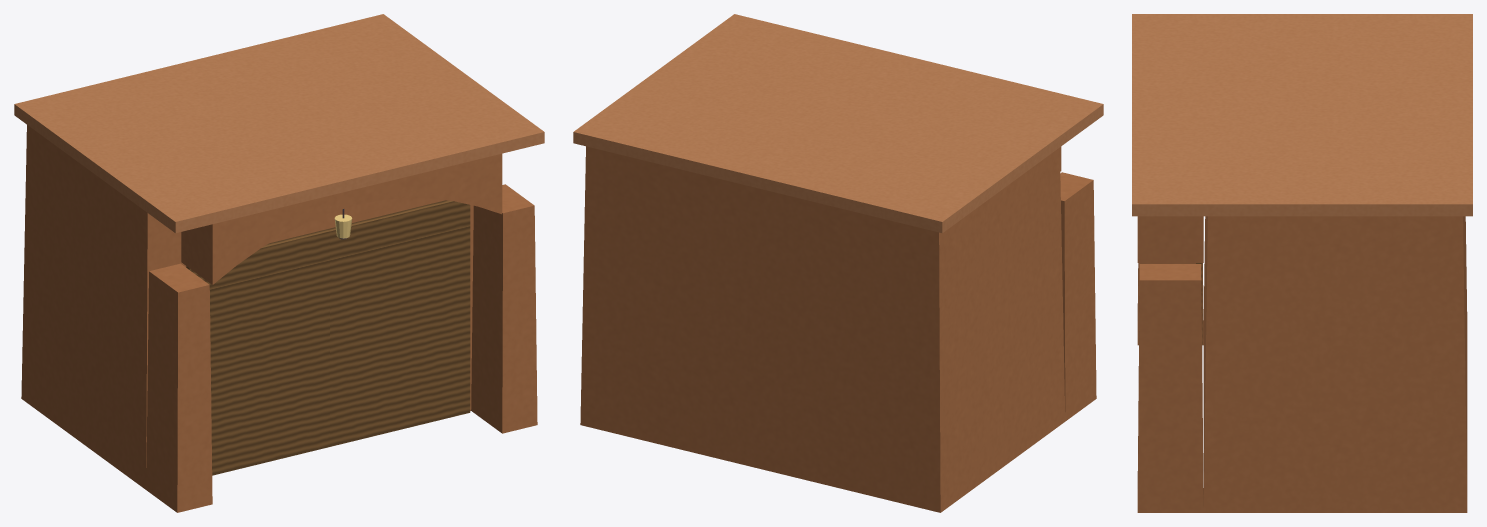
The model's file is SM_Souq_Stall_W4D30H30.fbx.
3 views of the same model, side by side, from view 1: azimuth 30°, elevation 25°; view 2: azimuth 150°, elevation 25°; view 3: azimuth 270°, elevation 25° (orthographic). The views are drawn at different scales.
Visible parts, largest first — view 1: SM_Souq_Stall_W4D30H30; view 2: SM_Souq_Stall_W4D30H30; view 3: SM_Souq_Stall_W4D30H30.
Part boxes in pixels (x1,y1,x2,y2): SM_Souq_Stall_W4D30H30: (14,14,544,512); SM_Souq_Stall_W4D30H30: (573,14,1103,512); SM_Souq_Stall_W4D30H30: (1132,14,1472,512).
Size of the model in its own units: 4.1 by 3.12 by 3.1.
